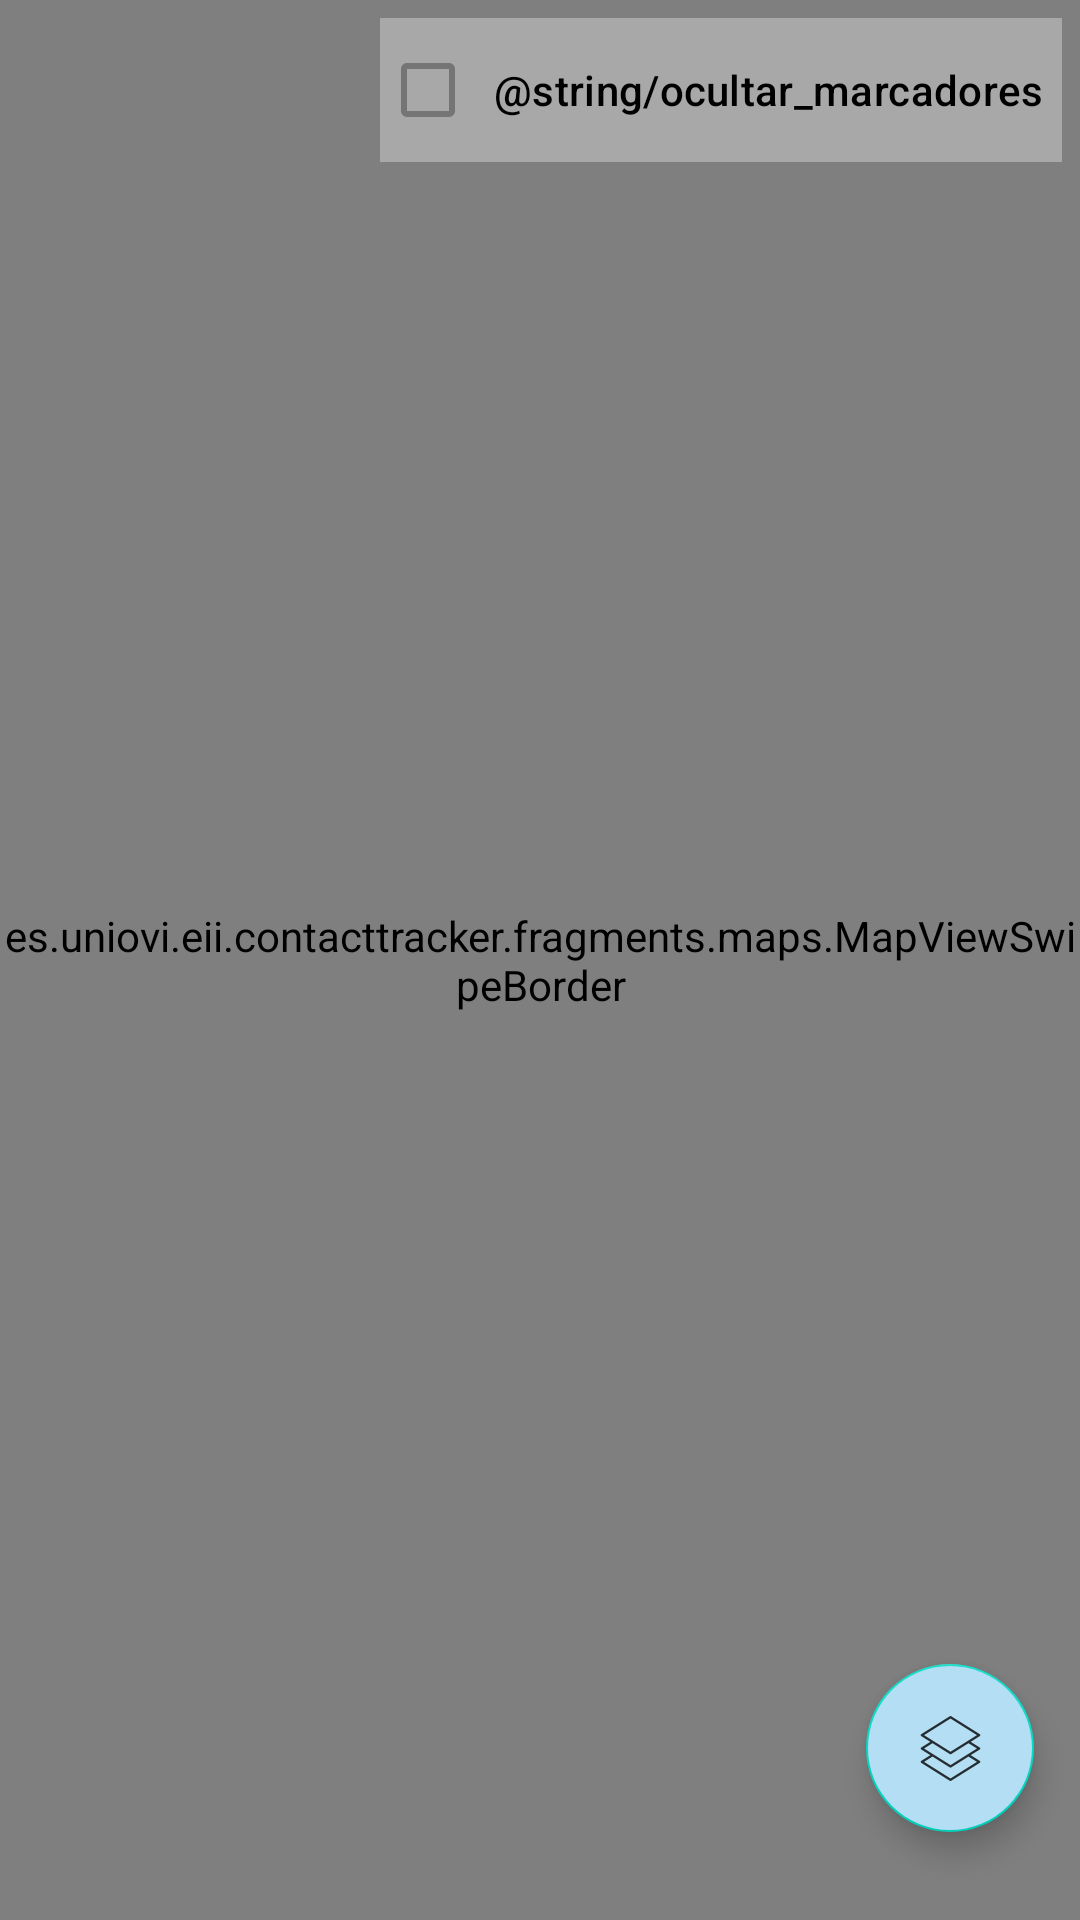

Icons on this 1080×1920 Android screen, each with the point to tap as (x,y):
FAB para desplegar tipos de mapa: (950,1748)
